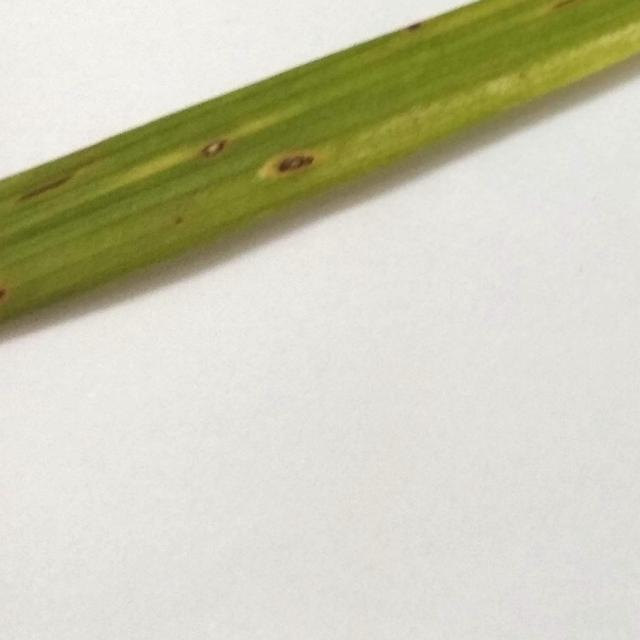Leaf_Blast: (251, 141, 331, 178), (184, 128, 233, 156)
